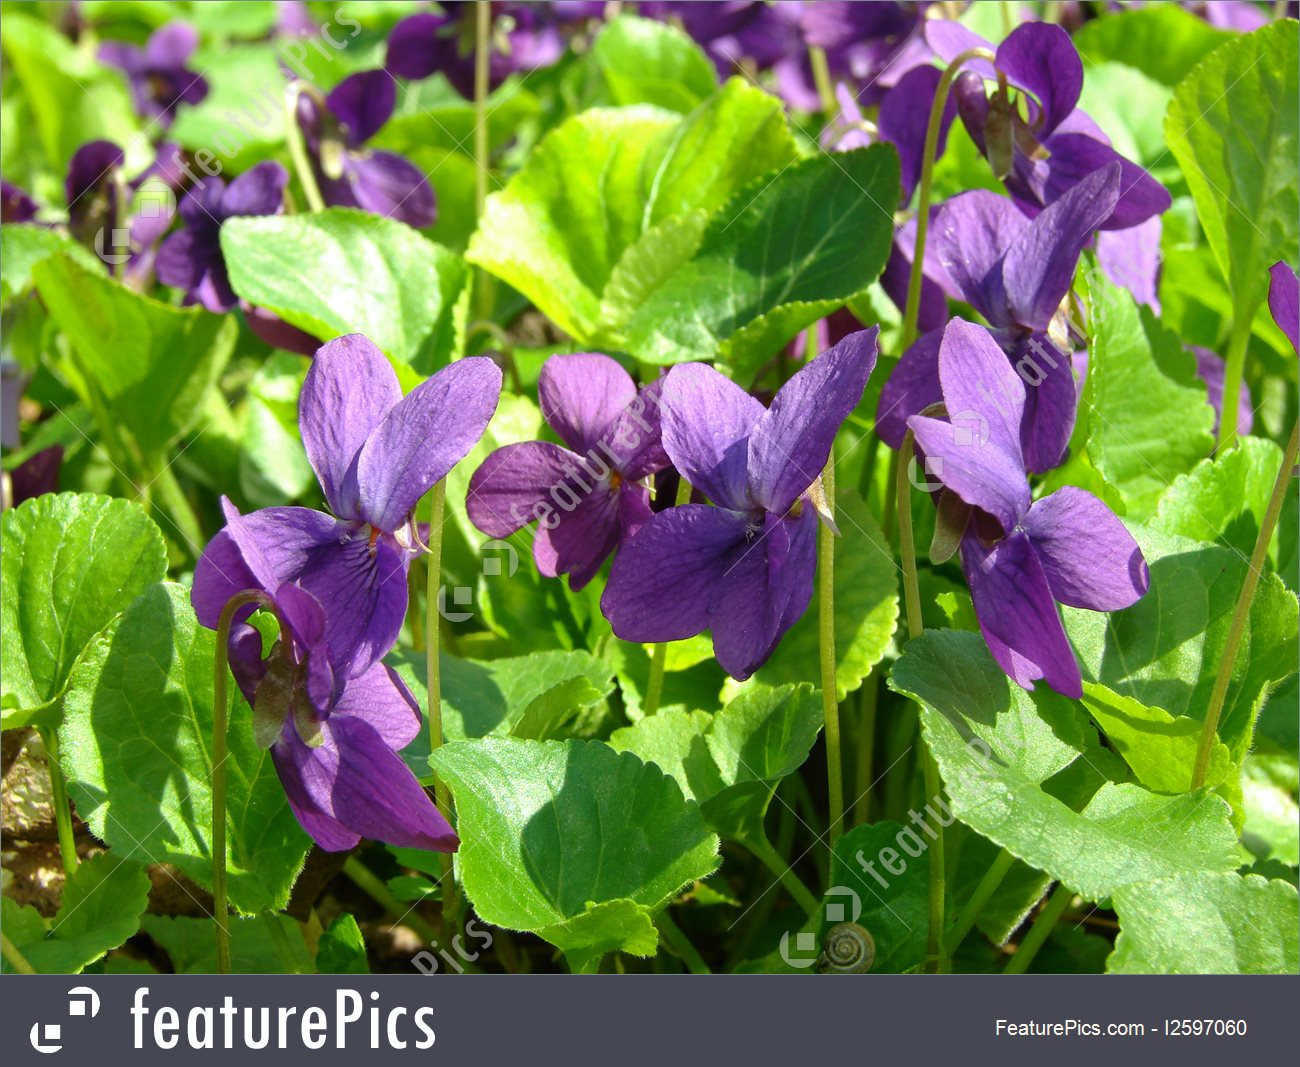violet: (899, 363, 1184, 721), (230, 329, 471, 657), (204, 614, 479, 899), (655, 347, 875, 672), (938, 16, 1149, 343), (489, 342, 671, 579)
